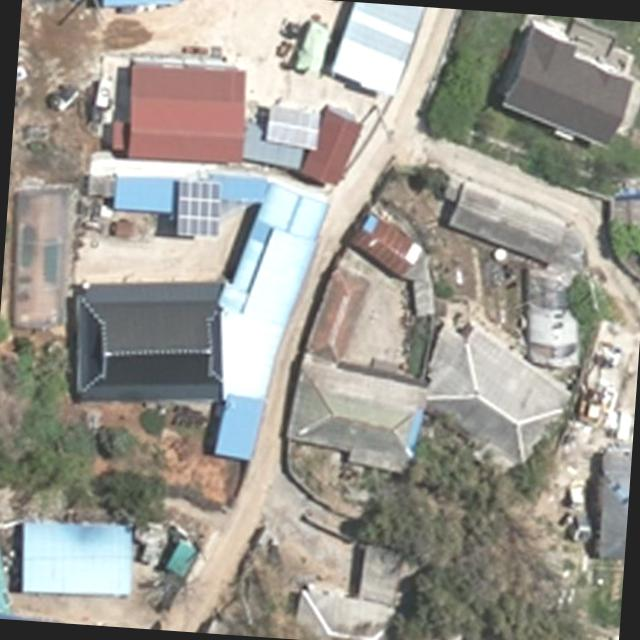solar: (172, 178, 222, 240), (264, 105, 322, 152)
